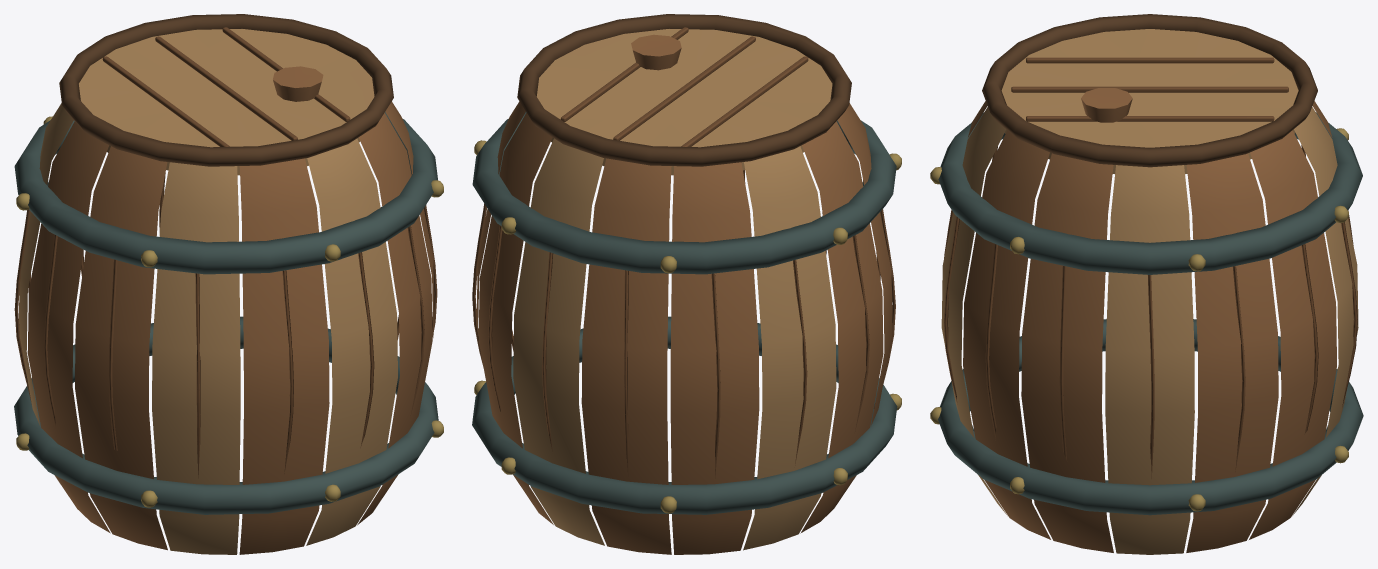
The model's file is barril.glb.
3 views of the same model, side by side, from view 1: azimuth 30°, elevation 25°; view 2: azimuth 150°, elevation 25°; view 3: azimuth 270°, elevation 25° (orthographic).
Visible parts, largest first — view 1: barril; view 2: barril; view 3: barril.
Part boxes in pixels (x1,y1,x2,y2): barril: [14, 14, 443, 554]; barril: [472, 14, 901, 554]; barril: [930, 14, 1363, 554].
Bounding box in the file's own units: 0.7451 × 0.795 × 0.7527.
